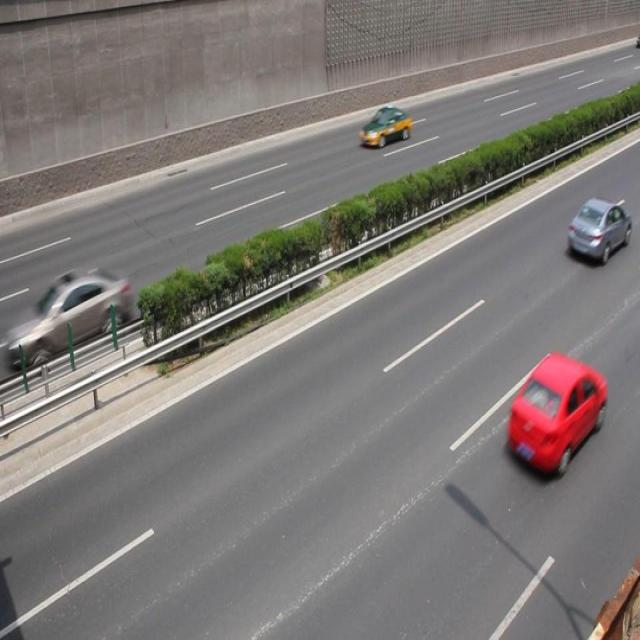car: (504, 357, 606, 478), (29, 265, 132, 363), (566, 197, 625, 266), (358, 106, 412, 150)
